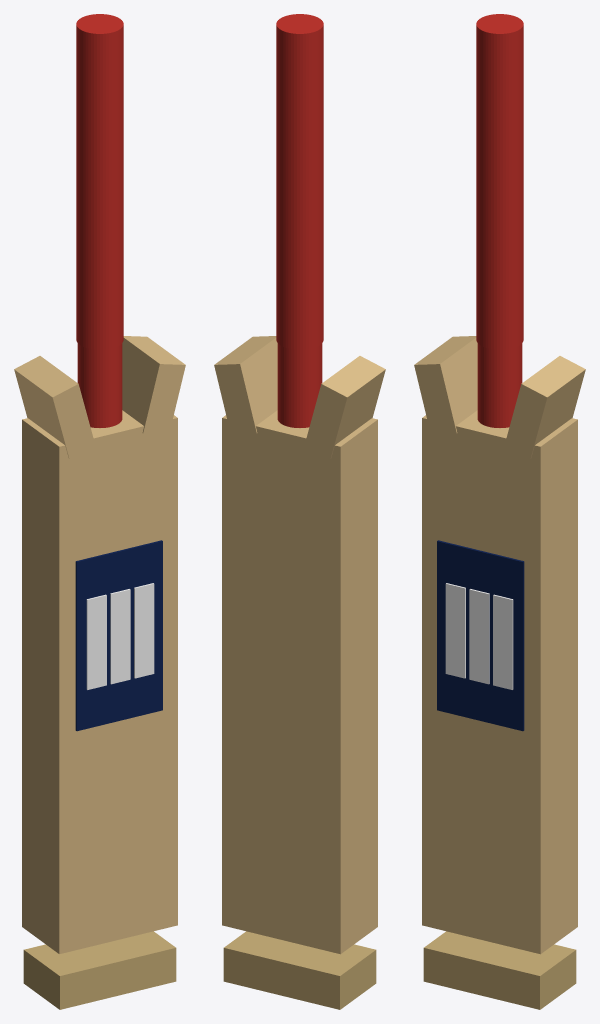
The model's file is ai_parts_83557c.glb.
The picture shows the model from 3 angles, left to right: view 1: azimuth 30°, elevation 25°; view 2: azimuth 150°, elevation 25°; view 3: azimuth 330°, elevation 25°; orthographic projection.
Parts seen in each view (by area): view 1: 00_blade, 03_grip, 06_sticker_background, 01_toe, 05_shoulder_right, 04_shoulder_left, 02_handle, 08_sticker_m, 09_sticker_l, 07_sticker_w; view 2: 00_blade, 03_grip, 01_toe, 05_shoulder_right, 04_shoulder_left, 02_handle; view 3: 00_blade, 03_grip, 06_sticker_background, 01_toe, 04_shoulder_left, 05_shoulder_right, 02_handle, 08_sticker_m, 07_sticker_w, 09_sticker_l.
Part boxes in pixels (x1,y1,x2,y2): 00_blade: (22,410,177,954); 03_grip: (76,14,123,349); 06_sticker_background: (75,540,162,731); 01_toe: (23,931,176,1009); 05_shoulder_right: (122,336,185,434); 04_shoulder_left: (14,356,95,458); 02_handle: (77,14,122,427); 08_sticker_m: (110,589,130,684); 09_sticker_l: (134,583,154,678); 07_sticker_w: (86,594,106,689); 00_blade: (222,410,377,954); 03_grip: (276,14,323,349); 01_toe: (223,931,376,1009); 05_shoulder_right: (214,336,277,434); 04_shoulder_left: (304,356,385,458); 02_handle: (277,14,322,427); 00_blade: (422,410,577,954); 03_grip: (476,14,523,349); 06_sticker_background: (437,540,524,731); 01_toe: (423,931,576,1009); 04_shoulder_left: (414,336,477,434); 05_shoulder_right: (504,356,585,458); 02_handle: (477,14,522,427); 08_sticker_m: (469,589,489,684); 07_sticker_w: (445,583,465,678); 09_sticker_l: (493,594,513,689).
Bounding box in the file's own units: 12.37 × 85 × 6.45.
